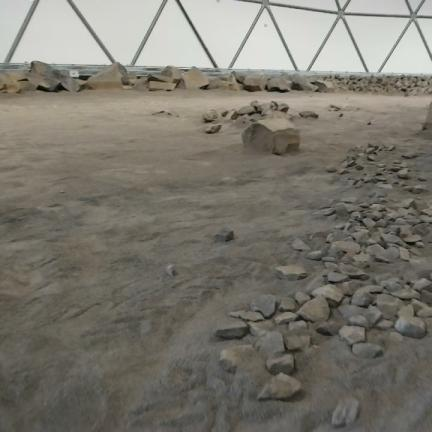Rock: (242, 118, 299, 155), (258, 373, 301, 400), (87, 62, 129, 89), (28, 62, 64, 91), (333, 305, 382, 326), (332, 398, 359, 427), (298, 297, 329, 322), (255, 332, 284, 356), (395, 316, 426, 338), (312, 285, 343, 307), (178, 67, 209, 89), (377, 294, 404, 319), (251, 294, 275, 318), (215, 321, 248, 338), (266, 354, 294, 374), (329, 241, 360, 259), (0, 70, 28, 89), (339, 326, 365, 345), (275, 266, 307, 281), (59, 73, 84, 92), (339, 264, 368, 280), (220, 350, 239, 373), (353, 343, 382, 358), (291, 75, 317, 91), (249, 321, 272, 338), (284, 335, 310, 350), (230, 310, 265, 321), (375, 247, 399, 263), (267, 76, 291, 92), (321, 270, 348, 284), (3, 81, 34, 93), (243, 75, 266, 91), (337, 281, 361, 296), (161, 66, 183, 82), (316, 321, 341, 335), (306, 276, 326, 293), (351, 292, 373, 307), (412, 300, 431, 317), (391, 288, 419, 299), (274, 312, 298, 324), (214, 228, 234, 242), (148, 81, 175, 91), (223, 76, 242, 90), (312, 80, 334, 92), (350, 315, 368, 329), (381, 280, 402, 292), (413, 278, 431, 292), (258, 102, 277, 115), (279, 298, 297, 311), (394, 225, 412, 238), (148, 74, 173, 83), (294, 292, 310, 306), (355, 285, 383, 293), (351, 231, 368, 244), (342, 203, 362, 214), (292, 239, 310, 251), (366, 244, 385, 255), (413, 224, 430, 236), (289, 320, 307, 331), (398, 305, 414, 317), (203, 110, 218, 122), (353, 252, 371, 262), (375, 273, 391, 284), (381, 234, 400, 243), (237, 105, 254, 115), (239, 345, 254, 356), (375, 320, 393, 329), (398, 199, 416, 208), (324, 262, 340, 272), (370, 232, 383, 244), (232, 71, 245, 83), (396, 169, 410, 180), (223, 110, 238, 120), (421, 290, 431, 305), (165, 264, 177, 276), (306, 251, 322, 260), (317, 207, 335, 215), (397, 209, 413, 218), (404, 235, 421, 243), (299, 111, 318, 118), (207, 78, 219, 89), (399, 247, 409, 260), (205, 125, 221, 133), (386, 211, 400, 220), (362, 218, 374, 228), (366, 212, 381, 220), (395, 218, 412, 225), (412, 185, 426, 193), (351, 212, 362, 222), (421, 206, 431, 217), (375, 218, 387, 227), (370, 204, 385, 211), (410, 247, 421, 256), (389, 226, 400, 235), (341, 197, 357, 203), (402, 153, 421, 158), (371, 176, 386, 182), (278, 104, 289, 112), (420, 215, 431, 223), (329, 104, 341, 111), (344, 156, 355, 163), (373, 198, 388, 203), (377, 183, 392, 188), (220, 109, 229, 117), (326, 233, 334, 242), (359, 79, 368, 87), (416, 81, 428, 87), (354, 227, 368, 232), (391, 165, 401, 172), (344, 236, 355, 242), (375, 191, 386, 197), (366, 146, 375, 153), (348, 84, 357, 91), (380, 77, 389, 84), (403, 78, 410, 86), (395, 81, 402, 89), (415, 242, 424, 248), (367, 239, 376, 245), (344, 222, 350, 231), (339, 169, 349, 174), (362, 177, 372, 182), (342, 161, 350, 167), (347, 161, 355, 167), (370, 77, 378, 83), (335, 224, 344, 229), (327, 167, 336, 172), (359, 203, 368, 208), (386, 146, 395, 151), (355, 182, 362, 188), (419, 176, 427, 181), (404, 186, 412, 191), (399, 86, 407, 91), (377, 164, 386, 168), (368, 155, 374, 161), (349, 180, 358, 184), (374, 172, 383, 176), (358, 151, 364, 157), (356, 165, 363, 170), (368, 192, 375, 197), (408, 83, 415, 88), (347, 177, 355, 181), (393, 160, 401, 164), (332, 80, 338, 85), (349, 75, 356, 79), (362, 173, 368, 177), (415, 197, 421, 200), (339, 113, 343, 117), (367, 121, 371, 124), (394, 181, 398, 184)
